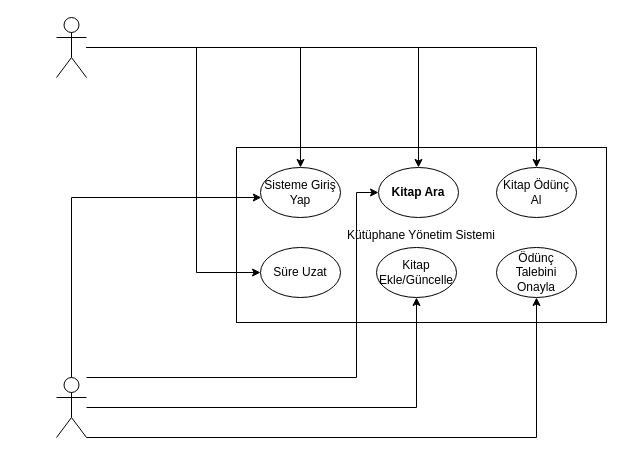
Some shapes in this 624 by 476 pixel diagram are drawn without their labels. The centre of each missing label's shape, as x and y in pixels:
Kutuphane Gorevlisi: [71,407]
Uye: [71,47]
